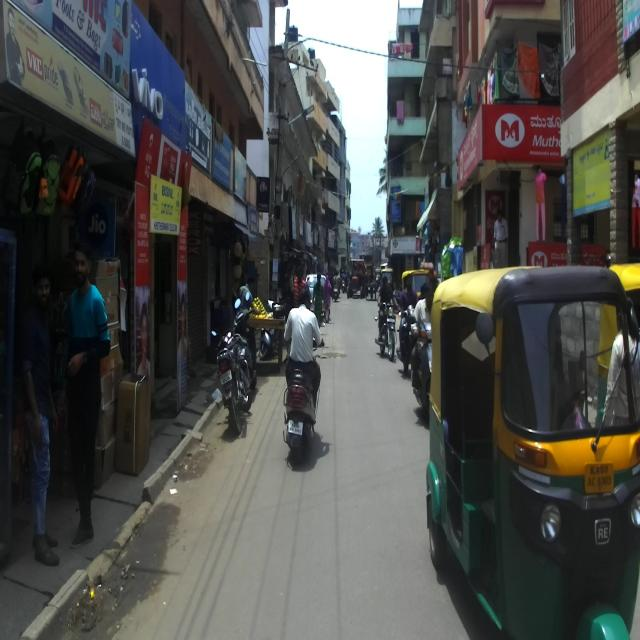high: (290, 268, 305, 306), (238, 276, 252, 309), (316, 273, 325, 323), (324, 271, 332, 321)
